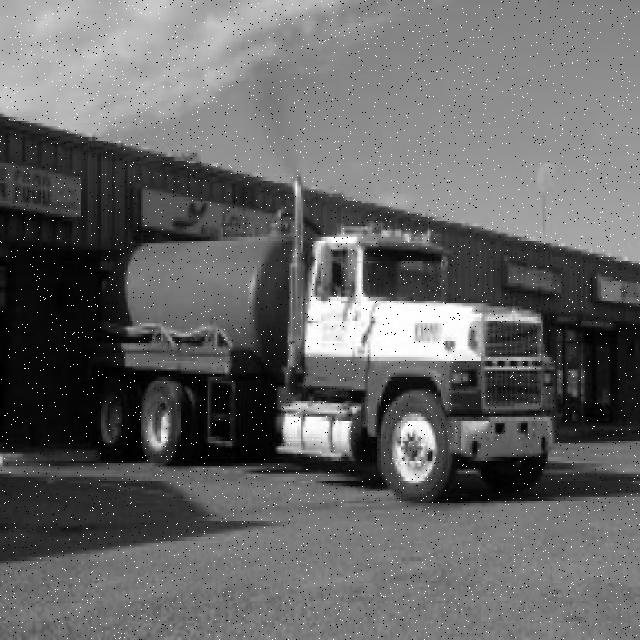Truck- Multi-Axle: (91, 173, 557, 504)
